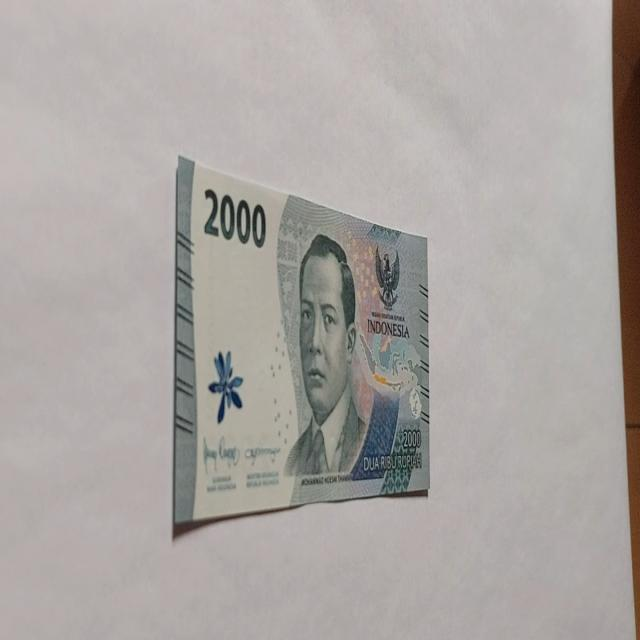dua ribu rupiah: (172, 153, 430, 535), (282, 232, 368, 478)
